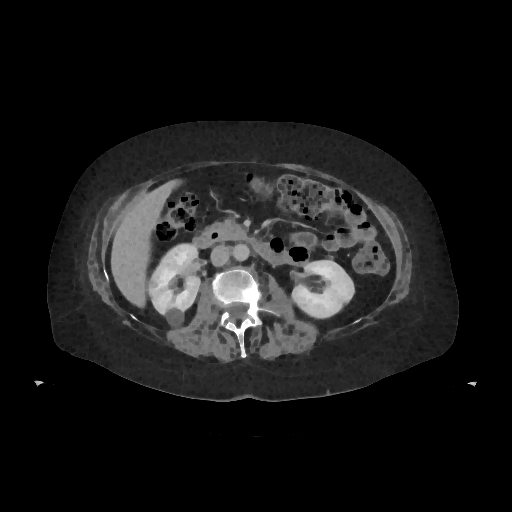Lesion: (163, 305, 184, 328)
